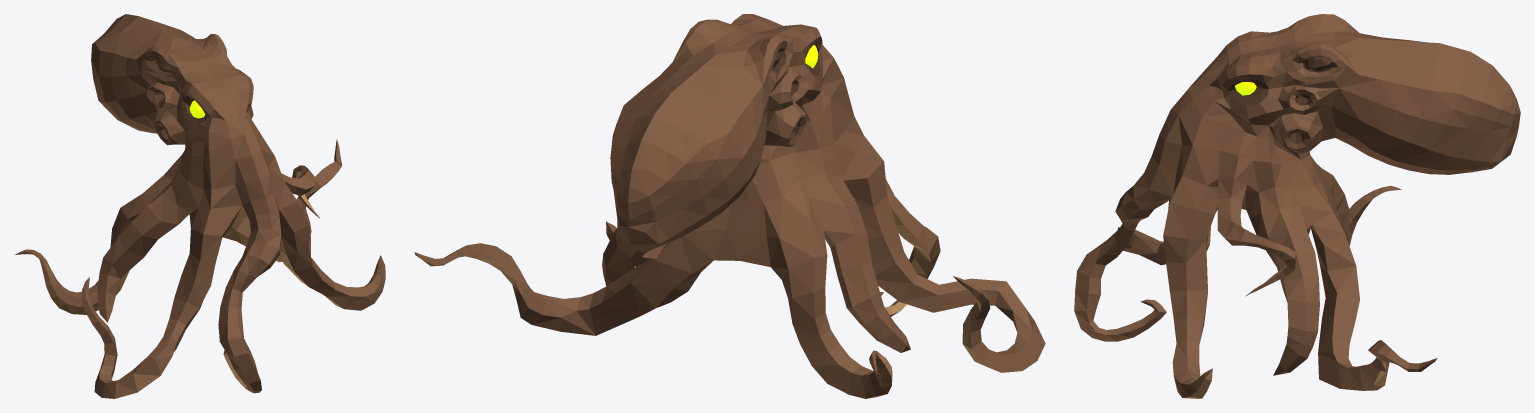
Rendered from Kraken_003.fbx.
The picture shows the model from 3 angles, left to right: view 1: azimuth 30°, elevation 25°; view 2: azimuth 150°, elevation 25°; view 3: azimuth 270°, elevation 25°; orthographic projection. The views are drawn at different scales.
Visible parts, largest first — view 1: Kraken_003; view 2: Kraken_003; view 3: Kraken_003.
Boxes of the visible parts, box(x1,y1,x2,y2) form: Kraken_003: box(15, 14, 385, 398); Kraken_003: box(414, 14, 1045, 398); Kraken_003: box(1074, 14, 1520, 398).
Bounding box in the file's own units: 2.09 × 1.56 × 1.93.
